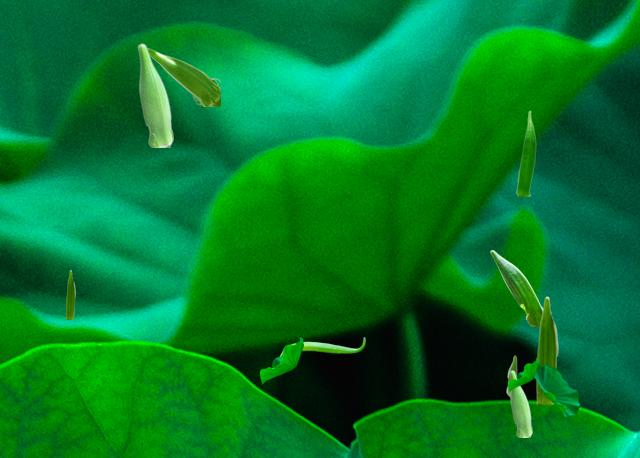okra: (149, 48, 219, 105), (490, 250, 542, 325), (137, 43, 172, 146), (536, 296, 557, 403), (516, 110, 535, 195), (279, 337, 364, 355), (509, 370, 531, 436), (506, 355, 516, 397), (66, 270, 74, 318)
